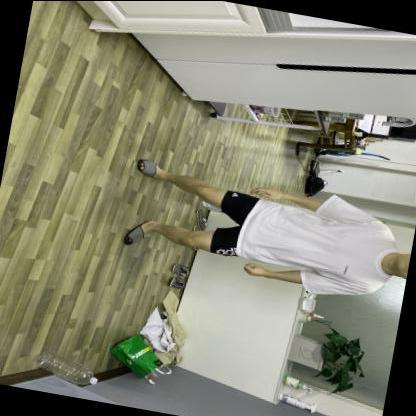no_safety-shoe: (115, 209, 164, 254), (132, 152, 171, 186)
